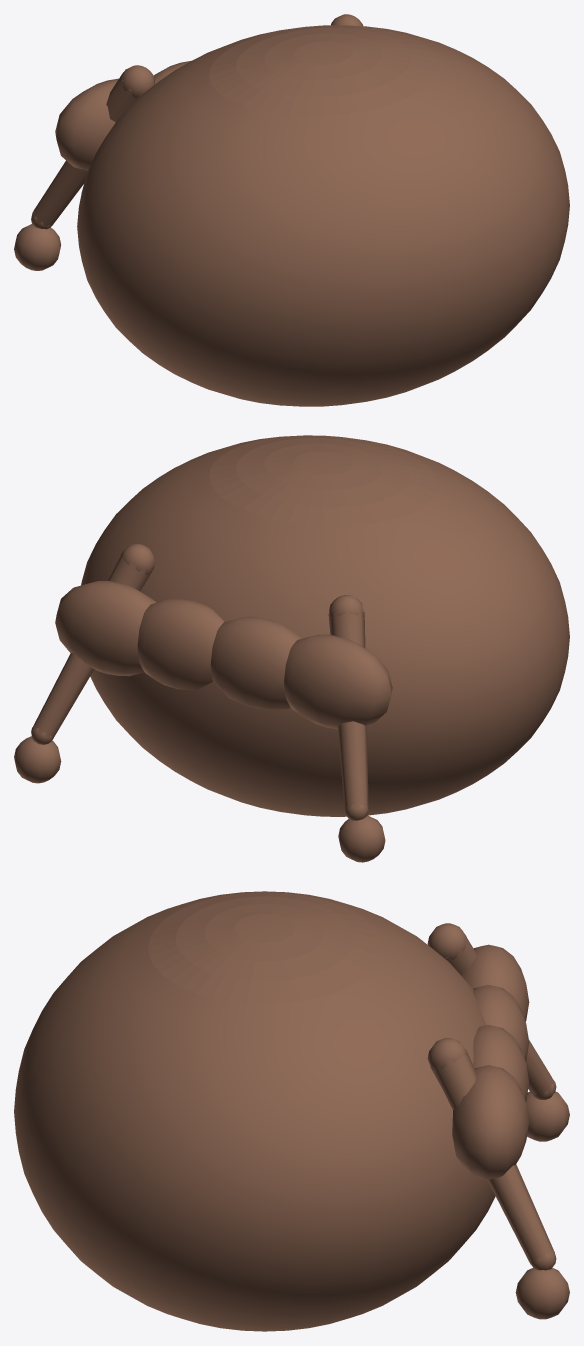
Rendered from Hair_Feelers.fbx.
3 views of the same model, one above another, from view 1: azimuth 30°, elevation 25°; view 2: azimuth 150°, elevation 25°; view 3: azimuth 270°, elevation 25° (orthographic). The views are drawn at different scales.
Visible parts, largest first — view 1: Hair, Hair_Bang.003, Hair_Feeler.001, Hair_Feeler_Tip.001, Hair_Feeler_Cap.002; view 2: Hair, Hair_Bang.003, Hair_Bang, Hair_Bang.002, Hair_Bang.001, Hair_Feeler.001, Hair_Feeler, Hair_Feeler_Tip.001, Hair_Feeler_Tip, Hair_Feeler_Cap, Hair_Feeler_Cap.002; view 3: Hair, Hair_Bang, Hair_Feeler, Hair_Bang.003, Hair_Bang.001, Hair_Feeler_Tip, Hair_Bang.002, Hair_Feeler_Tip.001, Hair_Feeler.001, Hair_Feeler_Cap.002, Hair_Feeler_Cap.
Boxes of the visible parts, bbox=[...] form: Hair: bbox=[77, 25, 569, 406]; Hair_Bang.003: bbox=[55, 78, 118, 170]; Hair_Feeler.001: bbox=[32, 72, 141, 226]; Hair_Feeler_Tip.001: bbox=[14, 224, 60, 270]; Hair_Feeler_Cap.002: bbox=[120, 65, 154, 97]; Hair: bbox=[81, 435, 569, 816]; Hair_Bang.003: bbox=[284, 634, 392, 729]; Hair_Bang: bbox=[55, 581, 156, 676]; Hair_Bang.002: bbox=[210, 616, 302, 710]; Hair_Bang.001: bbox=[137, 598, 223, 690]; Hair_Feeler.001: bbox=[328, 610, 368, 809]; Hair_Feeler: bbox=[33, 555, 152, 739]; Hair_Feeler_Tip.001: bbox=[338, 815, 385, 862]; Hair_Feeler_Tip: bbox=[14, 736, 61, 783]; Hair_Feeler_Cap: bbox=[120, 543, 154, 574]; Hair_Feeler_Cap.002: bbox=[329, 595, 364, 617]; Hair: bbox=[14, 891, 495, 1331]; Hair_Bang: bbox=[452, 1065, 529, 1179]; Hair_Feeler: bbox=[430, 1049, 554, 1264]; Hair_Bang.003: bbox=[461, 944, 529, 1021]; Hair_Bang.001: bbox=[473, 1025, 529, 1101]; Hair_Feeler_Tip: bbox=[515, 1268, 569, 1319]; Hair_Bang.002: bbox=[473, 985, 529, 1061]; Hair_Feeler_Tip.001: bbox=[526, 1091, 569, 1141]; Hair_Feeler.001: bbox=[445, 930, 554, 1096]; Hair_Feeler_Cap.002: bbox=[427, 923, 467, 959]; Hair_Feeler_Cap: bbox=[427, 1038, 467, 1071].
Bounding box in the file's own units: 84 × 60 × 82.
